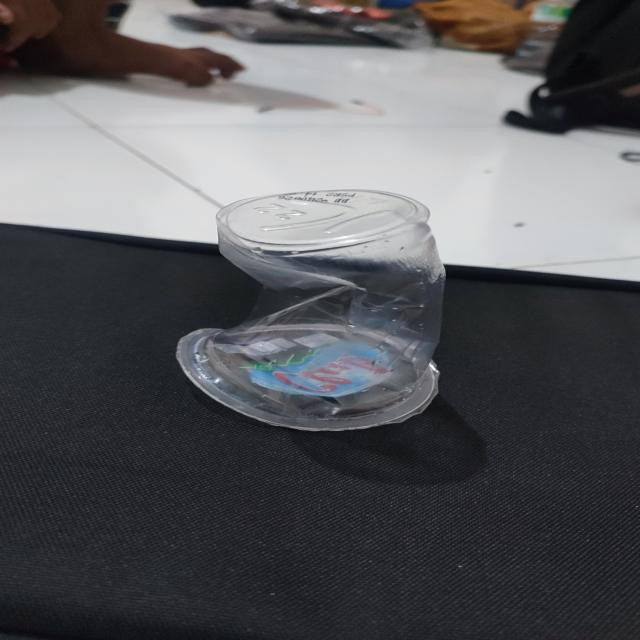air-gelas-rusak: (177, 189, 447, 432)
